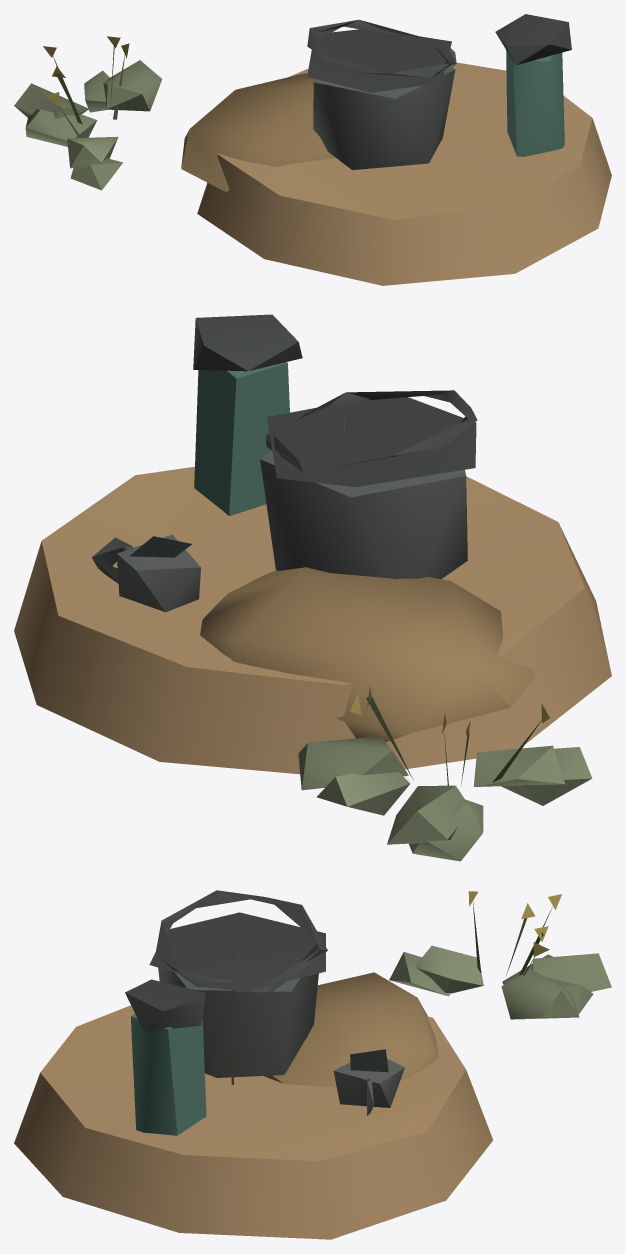
File: lunch_pail_c_lod2.glb
3 renders of one model, top to bottom at view 1: azimuth 30°, elevation 25°; view 2: azimuth 150°, elevation 25°; view 3: azimuth 270°, elevation 25°, orthographic. The views are drawn at different scales.
Parts seen in each view (by area): view 1: Surface.001; view 2: Surface.001; view 3: Surface.001.
Boxes of the visible parts, x1=… form: Surface.001: x1=14, y1=14, x2=611, y2=285; Surface.001: x1=14, y1=314, x2=611, y2=861; Surface.001: x1=14, y1=890, x2=611, y2=1239.
Size of the model in its own units: 2.98 by 1.15 by 3.1.
